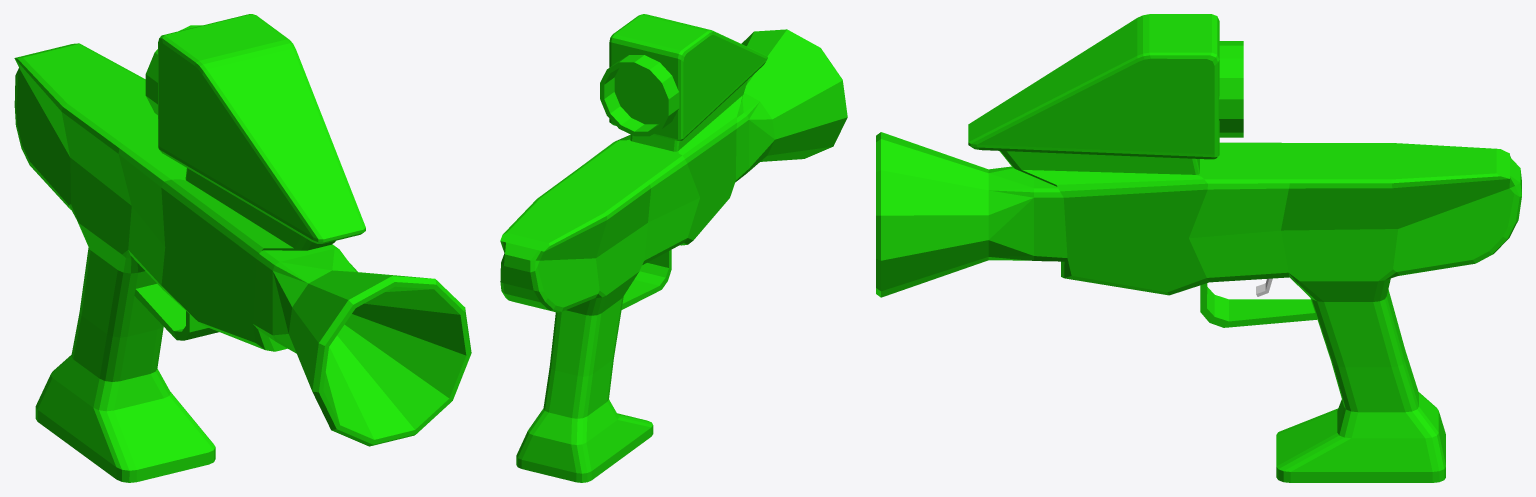
The model's file is Watergun.fbx.
3 views of the same model, side by side, from view 1: azimuth 30°, elevation 25°; view 2: azimuth 150°, elevation 25°; view 3: azimuth 270°, elevation 25° (orthographic). The views are drawn at different scales.
Visible parts, largest first — view 1: Gun; view 2: Gun; view 3: Gun.
Boxes of the visible parts, x1,y1,x2,y2 form: Gun: (14, 14, 471, 482); Gun: (500, 14, 847, 482); Gun: (876, 14, 1521, 482).
Size of the model in its own units: 210 by 600 by 820.
